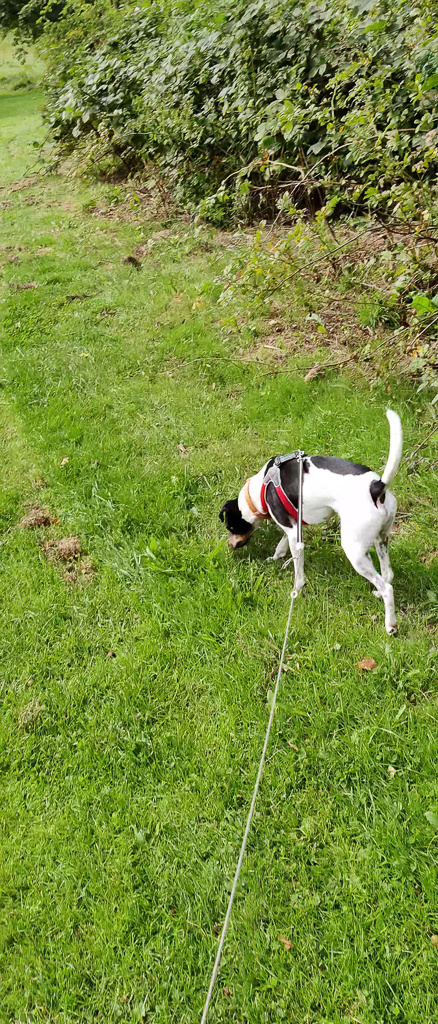Dog: (214, 396, 412, 643)
